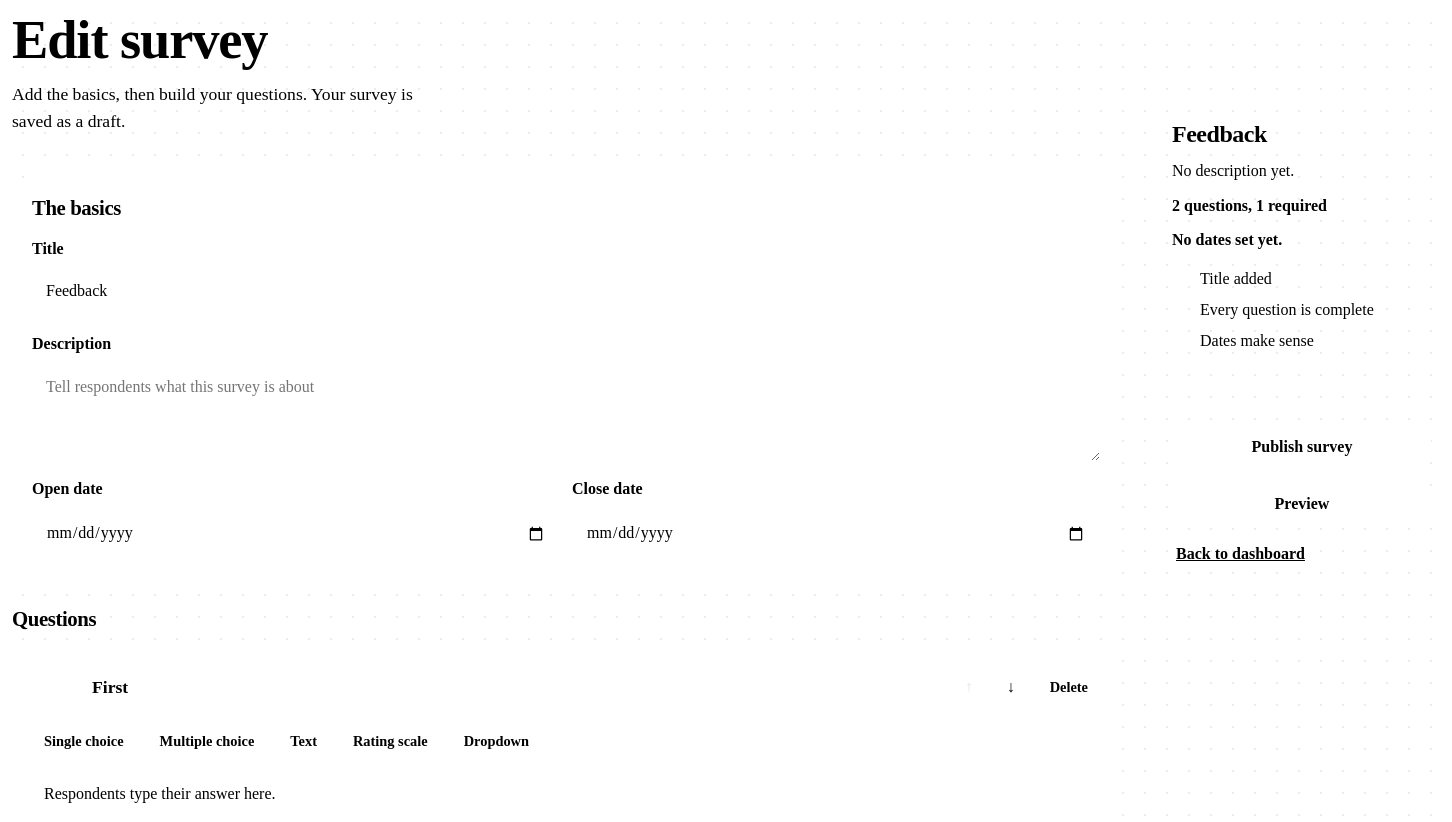
Scenario: CreateSurvey (builder) › restores the old order when saving the order fails
Click the button named "Move down" at (1011, 688), box [994,671,1028,705]
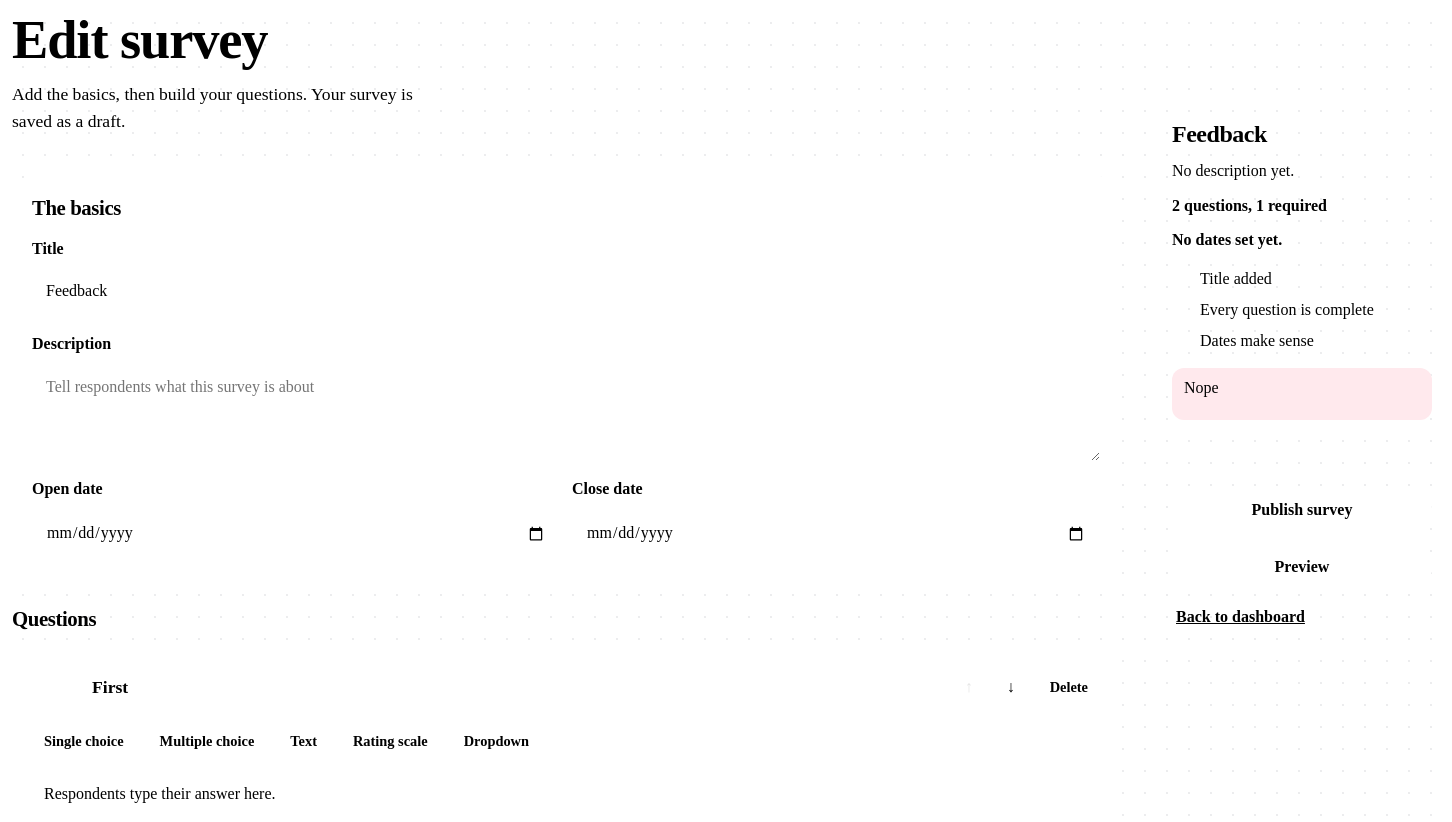
Check: the text "Nope" is shown, box [1184,379,1219,396]
